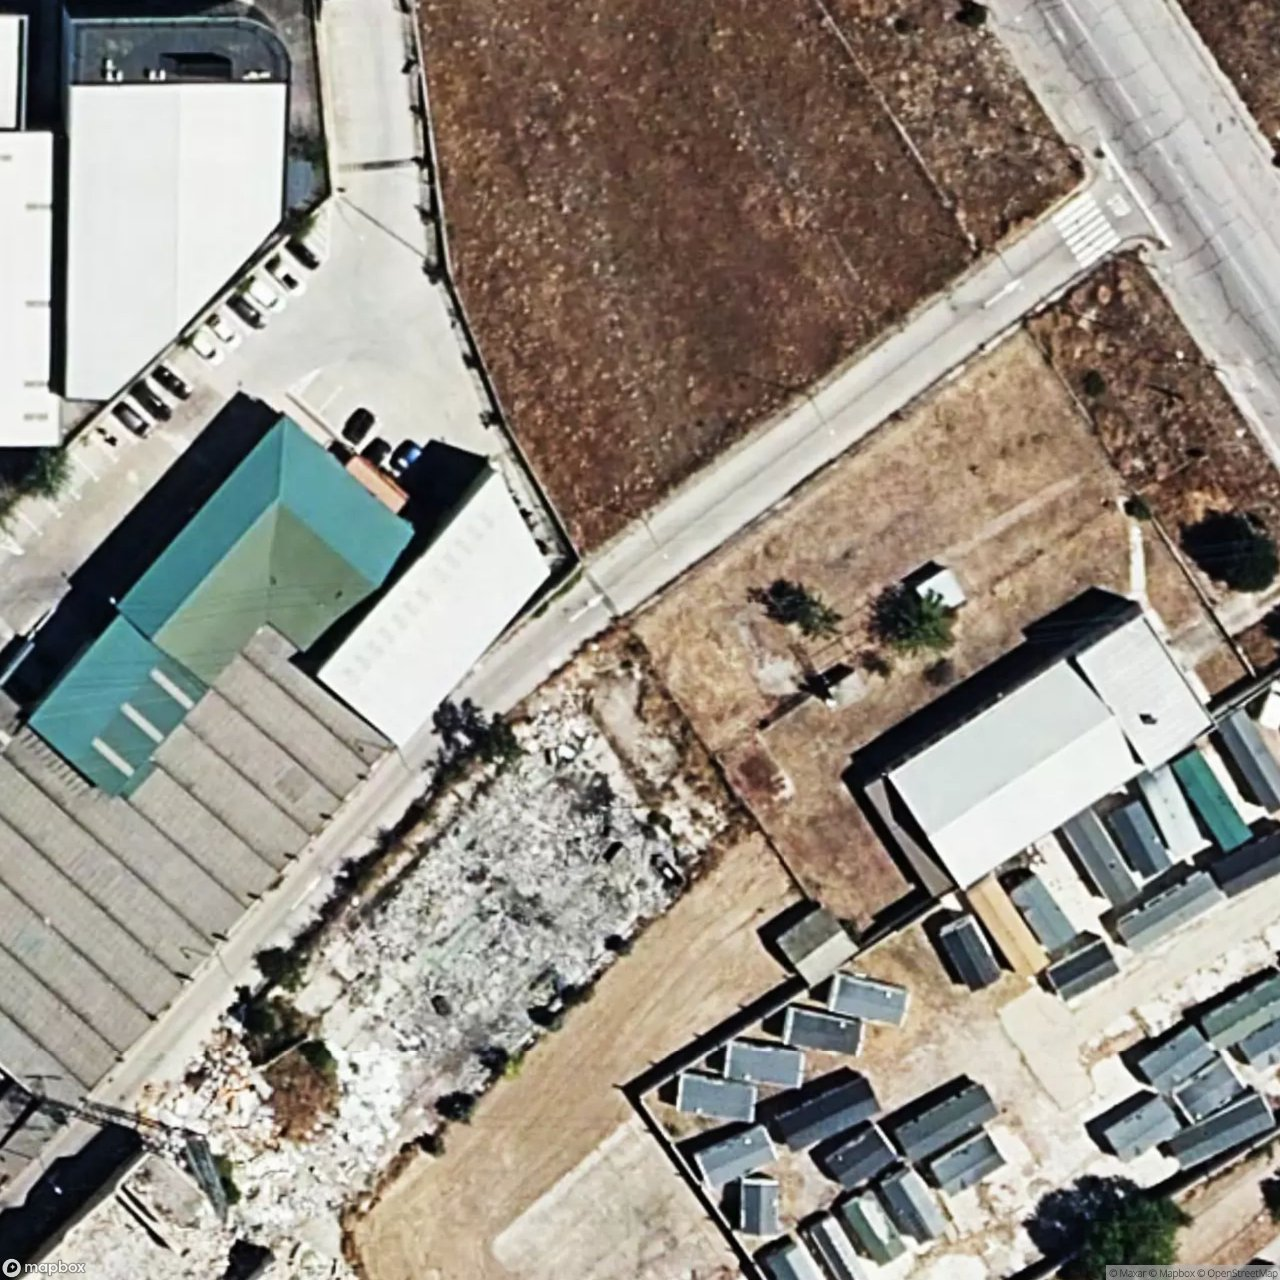dump_site: (277, 622, 764, 1242)
